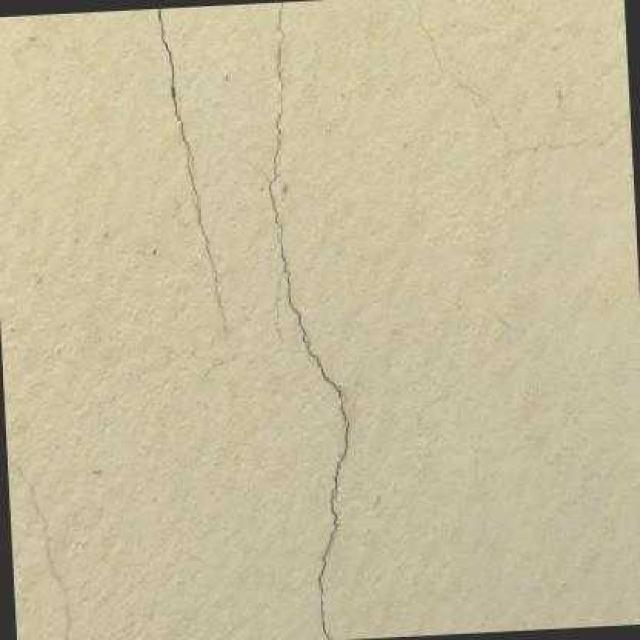D00: (317, 418, 349, 640), (157, 8, 194, 171), (191, 193, 225, 326), (278, 223, 306, 345), (306, 335, 344, 421), (268, 55, 282, 225), (186, 149, 199, 206)
